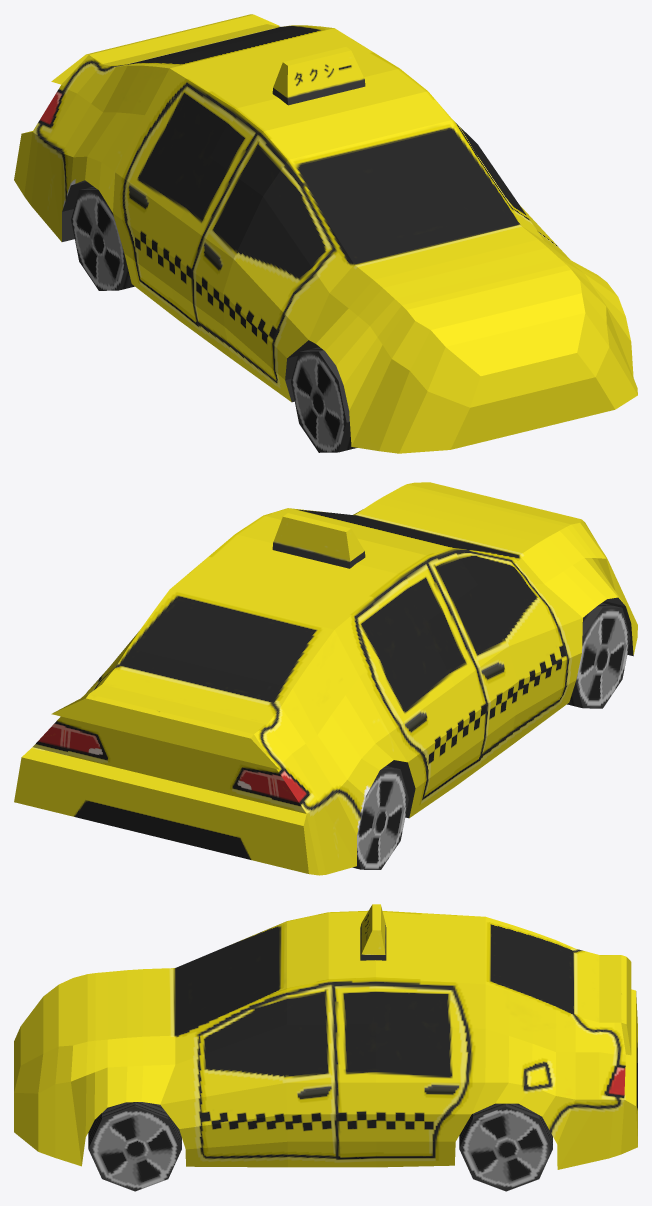
The model's file is TaxiCab.fbx.
3 renders of one model, top to bottom at view 1: azimuth 30°, elevation 25°; view 2: azimuth 150°, elevation 25°; view 3: azimuth 270°, elevation 25°, orthographic. The views are drawn at different scales.
Parts seen in each view (by area): view 1: TaxiCab, WheelFR, WheelRR, TaxiSign; view 2: TaxiCab, WheelFR, WheelRR, TaxiSign; view 3: TaxiCab, WheelFL, WheelRL, TaxiSign.
Boxes of the visible parts, left/top/right/bottom form: TaxiCab: left=14, top=14, right=637, bottom=453; WheelFR: left=291, top=347, right=357, bottom=452; WheelRR: left=71, top=186, right=134, bottom=290; TaxiSign: left=272, top=47, right=365, bottom=105; TaxiCab: left=14, top=482, right=637, bottom=875; WheelFR: left=567, top=603, right=630, bottom=708; WheelRR: left=352, top=766, right=408, bottom=869; TaxiSign: left=272, top=513, right=365, bottom=568; TaxiCab: left=14, top=910, right=637, bottom=1169; WheelFL: left=88, top=1102, right=181, bottom=1191; WheelRL: left=459, top=1103, right=552, bottom=1191; TaxiSign: left=360, top=904, right=386, bottom=960.
Bounding box in the file's own units: 346 × 287 × 754.
